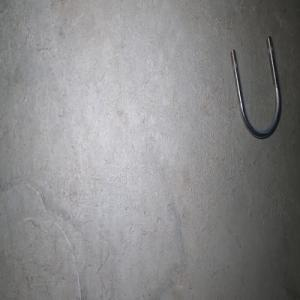ClampPart: (229, 35, 282, 140)
